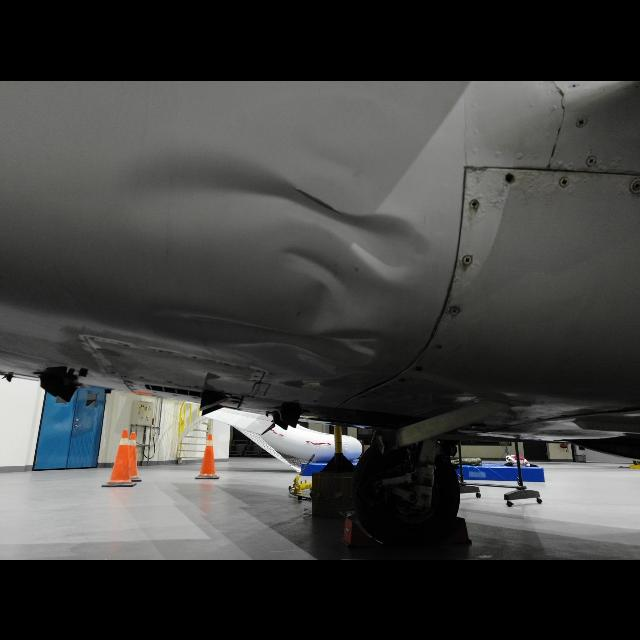Missing Fastener: (498, 169, 518, 185)
dent: (148, 139, 428, 317), (190, 305, 390, 369)
